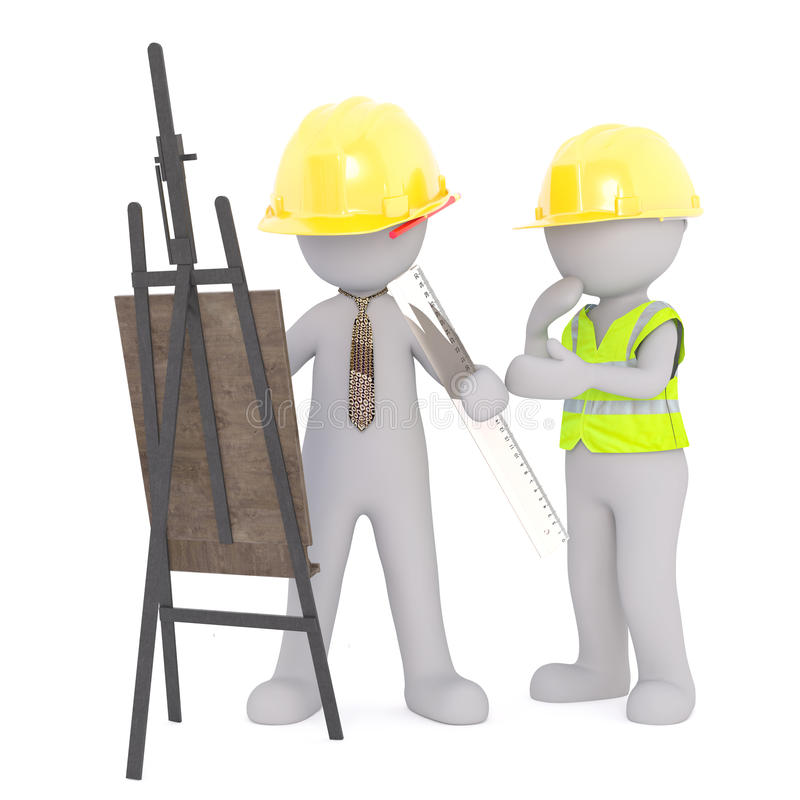casco: (252, 96, 465, 240), (511, 121, 704, 233)
